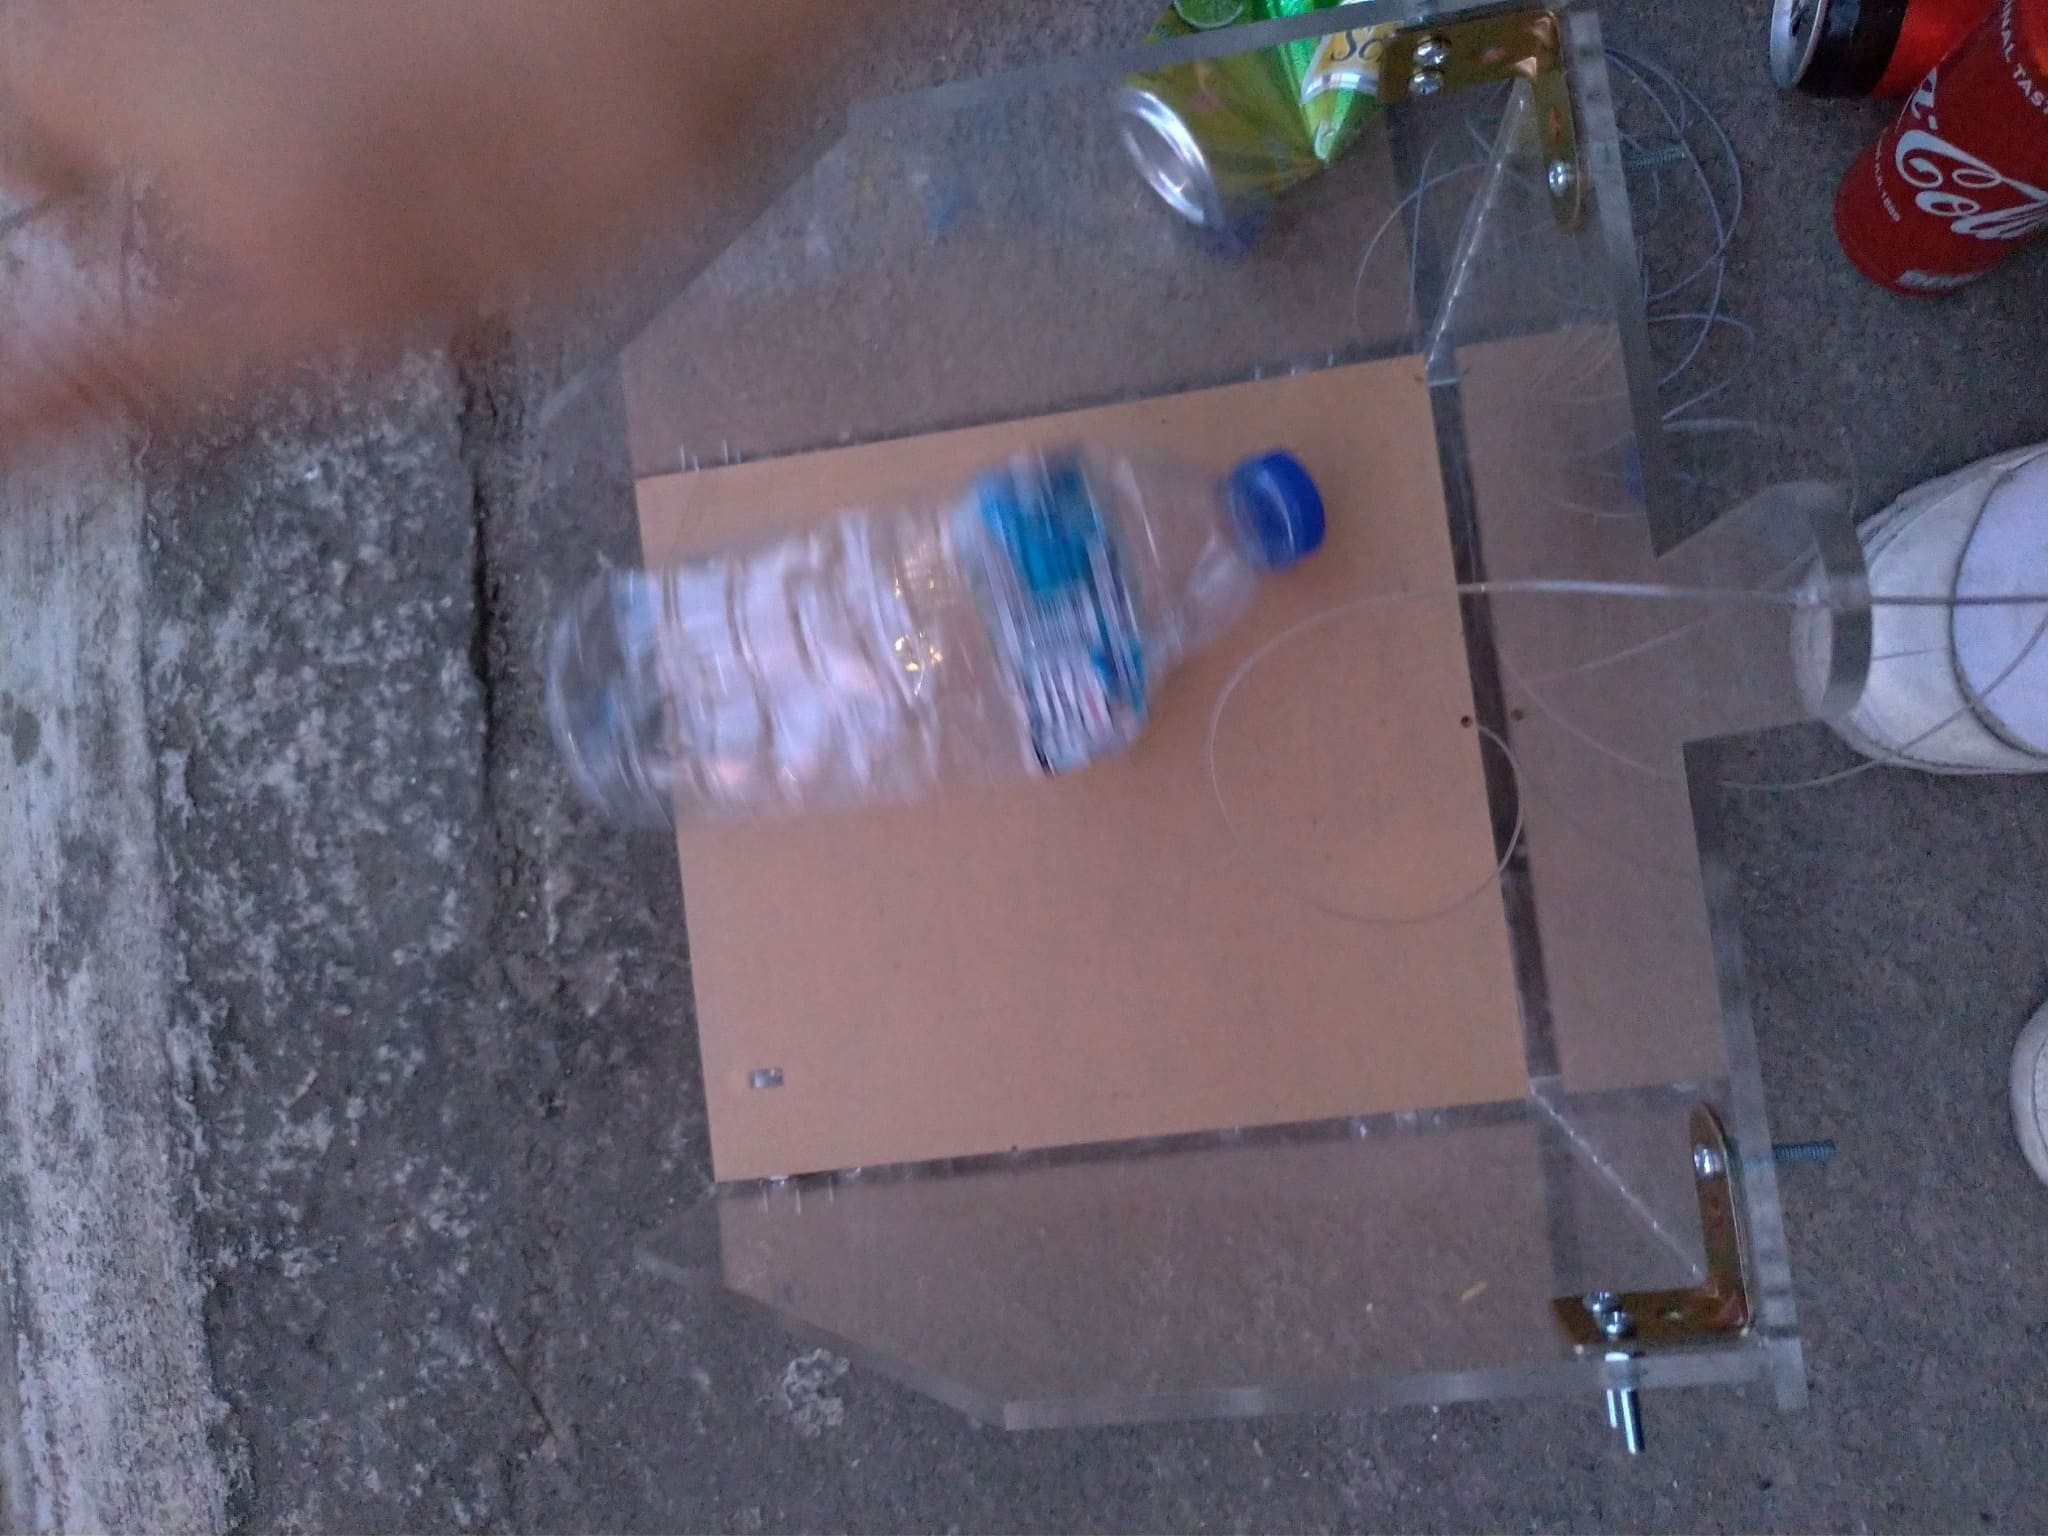AlCan: (1113, 5, 1387, 229), (1838, 10, 2042, 300), (1763, 2, 1954, 103)
PlasticBottle: (552, 437, 1329, 831)
